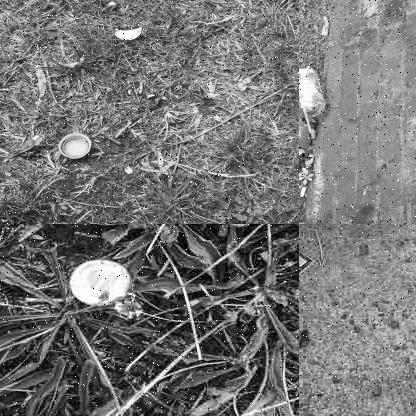plastic: (69, 255, 131, 307), (299, 64, 336, 119), (56, 132, 94, 165), (299, 247, 315, 284), (299, 122, 313, 158)
